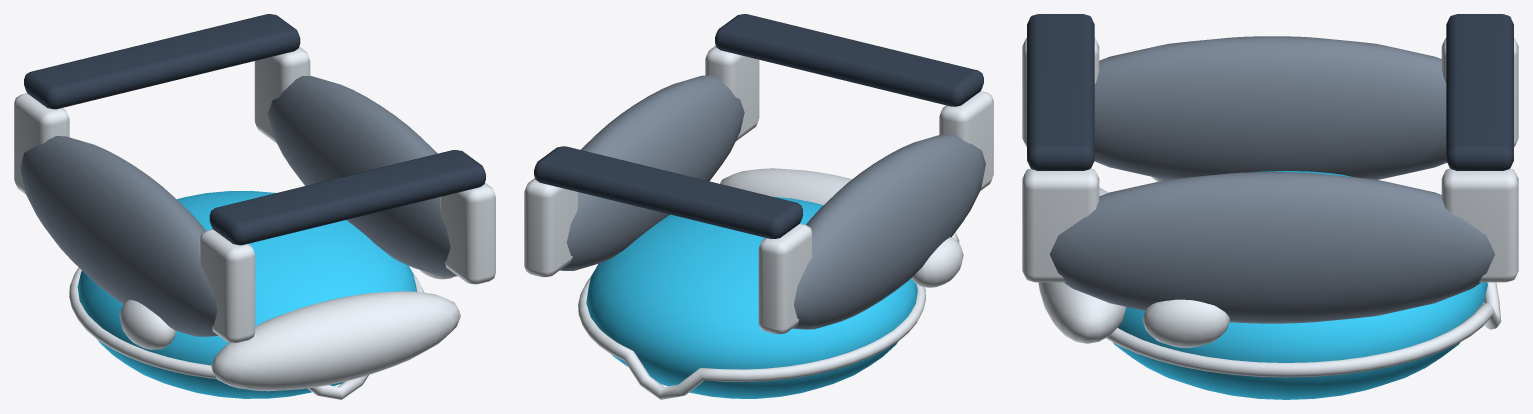
Rendered from dome-strap-v1.glb.
The picture shows the model from 3 angles, left to right: view 1: azimuth 30°, elevation 25°; view 2: azimuth 150°, elevation 25°; view 3: azimuth 270°, elevation 25°; orthographic projection. The views are drawn at different scales.
Parts seen in each view (by area): view 1: side padded bolster.001, domed turtle shield, floating lower bumper, side padded bolster, rear wrap strap, rear wrap strap.001, strap side anchor, strap side anchor.001, shell perimeter keyline, strap side anchor.002, strap side anchor.003, hinge button.001; view 2: domed turtle shield, side padded bolster.001, side padded bolster, rear wrap strap, rear wrap strap.001, shell perimeter keyline, strap side anchor.002, strap side anchor.003, floating lower bumper, strap side anchor, strap side anchor.001, hinge button.001; view 3: side padded bolster, side padded bolster.001, domed turtle shield, rear wrap strap, rear wrap strap.001, shell perimeter keyline, strap side anchor.001, strap side anchor.003, floating lower bumper, hinge button, strap side anchor, strap side anchor.002.
Boxes of the visible parts, x1,y1,x2,y2 form: side padded bolster.001: (20, 136, 218, 336); domed turtle shield: (77, 191, 416, 398); floating lower bumper: (211, 291, 460, 391); side padded bolster: (268, 76, 457, 276); rear wrap strap: (209, 150, 485, 245); rear wrap strap.001: (24, 14, 300, 109); strap side anchor: (199, 229, 255, 342); strap side anchor.001: (440, 182, 495, 284); shell perimeter keyline: (69, 267, 424, 399); strap side anchor.002: (14, 93, 69, 194); strap side anchor.003: (254, 46, 310, 143); hinge button.001: (119, 299, 175, 349); domed turtle shield: (586, 196, 917, 398); side padded bolster.001: (793, 134, 985, 329); side padded bolster: (560, 75, 744, 270); rear wrap strap: (715, 14, 983, 106); rear wrap strap.001: (534, 146, 802, 238); shell perimeter keyline: (578, 277, 925, 399); strap side anchor.002: (758, 223, 812, 334); strap side anchor.003: (524, 178, 578, 277); floating lower bumper: (720, 168, 959, 242); strap side anchor: (939, 91, 993, 190); strap side anchor.001: (705, 45, 759, 140); hinge button.001: (911, 237, 963, 287); side padded bolster: (1049, 172, 1494, 323); side padded bolster.001: (1094, 36, 1446, 179); domed turtle shield: (1113, 170, 1487, 399); rear wrap strap: (1027, 14, 1094, 170); rear wrap strap.001: (1446, 14, 1513, 170); shell perimeter keyline: (1106, 282, 1501, 377); strap side anchor.001: (1022, 168, 1099, 282); strap side anchor.003: (1441, 168, 1518, 282); floating lower bumper: (1038, 187, 1125, 343); hinge button: (1142, 299, 1229, 347); strap side anchor: (1022, 38, 1099, 146); strap side anchor.002: (1441, 38, 1518, 146).
Size of the model in its own units: 0.55 by 0.405 by 0.633.
